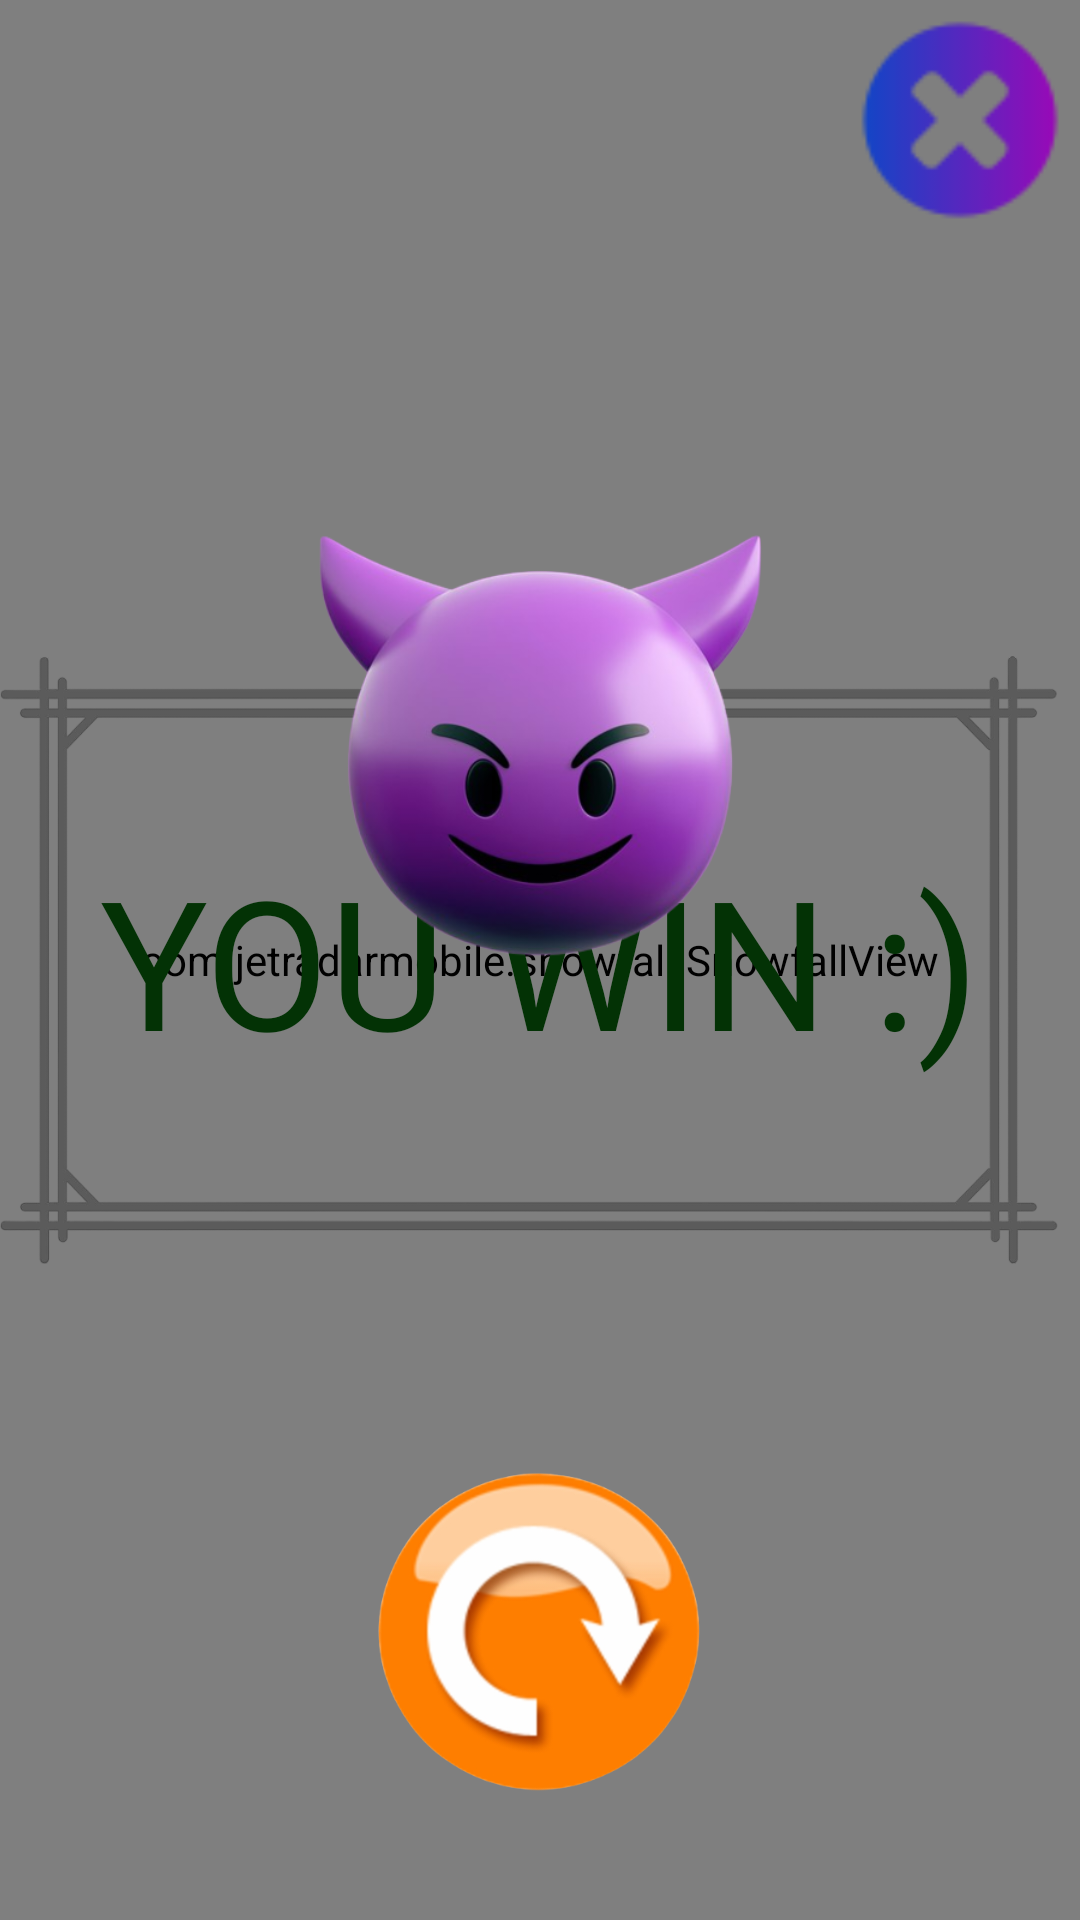

Icons on this 1080px×1920px Android screen, each with the point to tap as point (x, y):
cross: point (960, 120)
repl: point (538, 1631)
